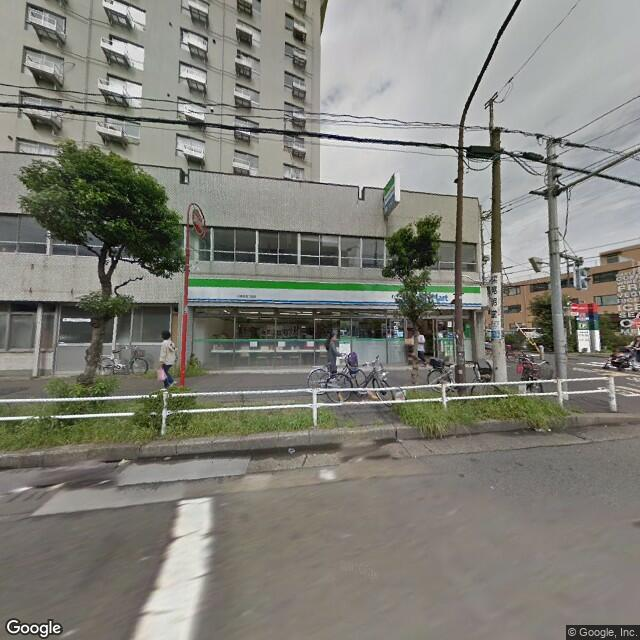family_mart: (185, 272, 483, 313)
